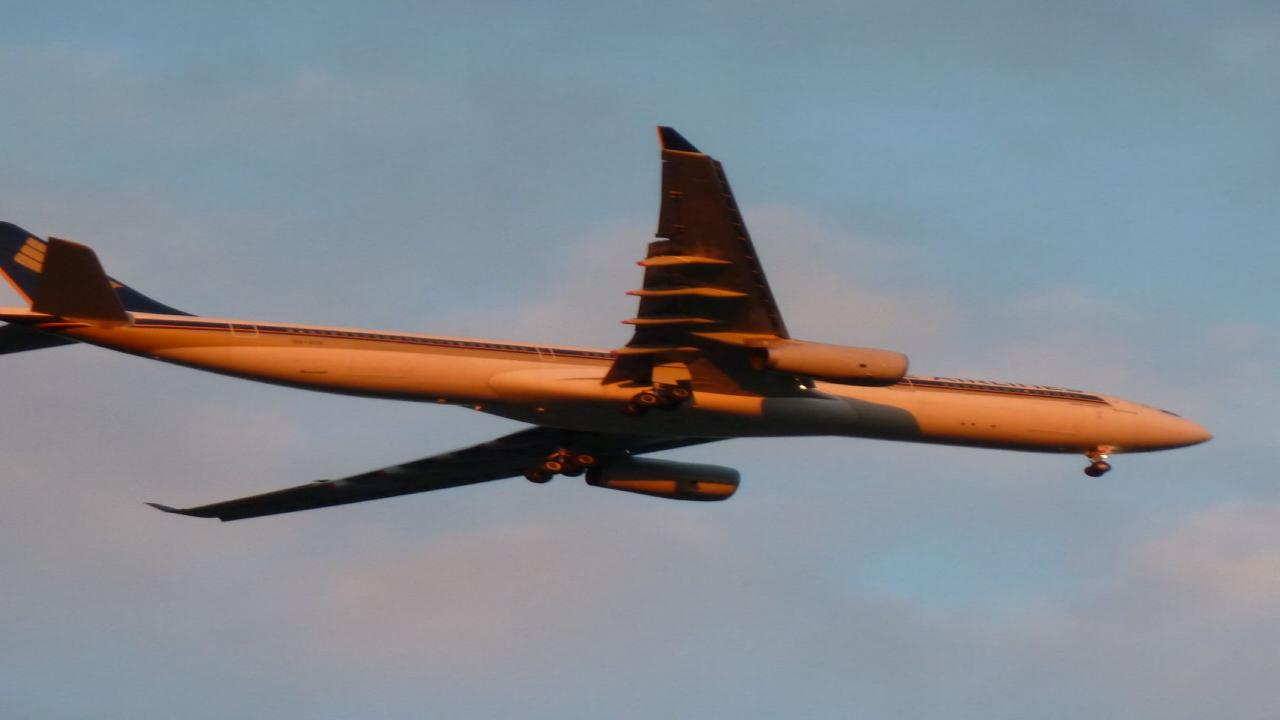Airplane: (0, 112, 1231, 538)
